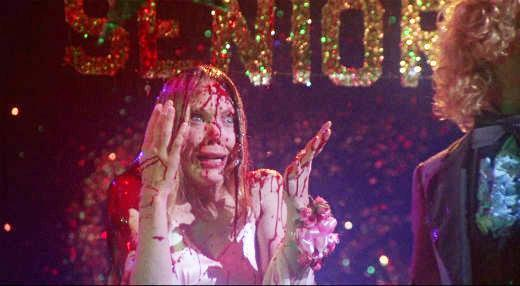Fire: (139, 66, 332, 284)
